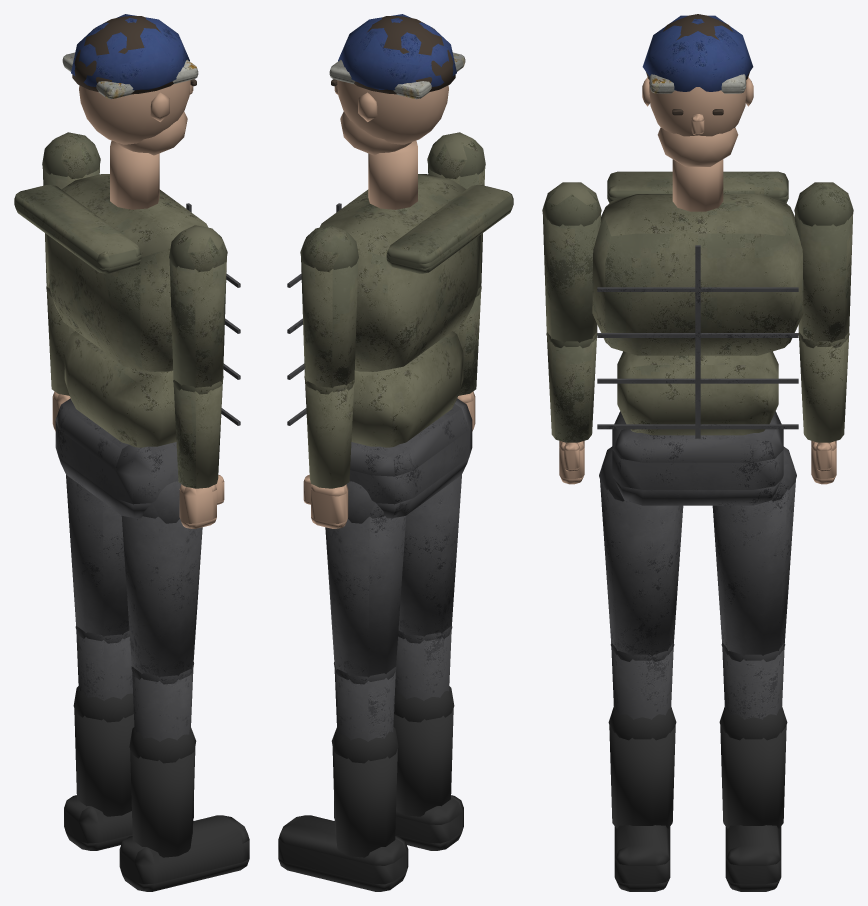
The model's file is char_player.gltf.
The picture shows the model from 3 angles, left to right: view 1: azimuth 30°, elevation 25°; view 2: azimuth 150°, elevation 25°; view 3: azimuth 270°, elevation 25°; orthographic projection.
Parts seen in each view (by area): view 1: box.002, cyl.008, box.001, box, cyl.005, cyl.003, box.012, cyl.010, box.018, cyl.007, blob.005, cyl.004 (+16 smaller); view 2: box.002, cyl.005, box.001, box, cyl.008, cyl.001, box.011, cyl.007, box.018, cyl.010, blob.005, cyl.002 (+16 smaller); view 3: box.002, box, box.001, cyl.005, cyl.008, cyl.001, cyl.003, cyl.007, cyl.010, blob.005, cyl.002, cyl.004 (+21 smaller).
Part boxes in pixels (<box>): box.002: <box>47,174,208,371</box>; cyl.008: <box>121,516,202,677</box>; box.001: <box>64,331,176,447</box>; box: <box>55,398,178,518</box>; cyl.005: <box>66,475,129,636</box>; cyl.003: <box>169,258,226,388</box>; box.012: <box>119,815,249,891</box>; cyl.010: <box>130,748,195,857</box>; box.018: <box>14,185,141,273</box>; cyl.007: <box>74,708,134,816</box>; blob.005: <box>71,14,189,90</box>; cyl.004: <box>173,382,222,488</box>; box.002: <box>319,174,480,371</box>; cyl.005: <box>325,516,406,677</box>; box.001: <box>351,331,463,447</box>; box: <box>349,398,472,518</box>; cyl.008: <box>398,475,461,636</box>; cyl.001: <box>301,258,358,388</box>; box.011: <box>278,815,408,891</box>; cyl.007: <box>332,748,397,857</box>; box.018: <box>386,185,513,273</box>; cyl.010: <box>393,708,453,816</box>; blob.005: <box>338,14,456,90</box>; cyl.002: <box>305,382,354,488</box>; box.002: <box>592,194,803,355</box>; box: <box>612,411,783,505</box>; box.001: <box>617,351,778,435</box>; cyl.005: <box>712,480,795,655</box>; cyl.008: <box>600,480,683,655</box>; cyl.001: <box>795,213,853,342</box>; cyl.003: <box>542,213,600,342</box>; cyl.007: <box>720,725,786,828</box>; cyl.010: <box>609,725,675,828</box>; blob.005: <box>642,15,753,91</box>; cyl.002: <box>799,337,848,442</box>; cyl.004: <box>547,337,596,442</box>.
Bounding box in the file's own units: 0.36 × 1.83 × 0.6183.
Materials: 7 (4 with a texture image).
